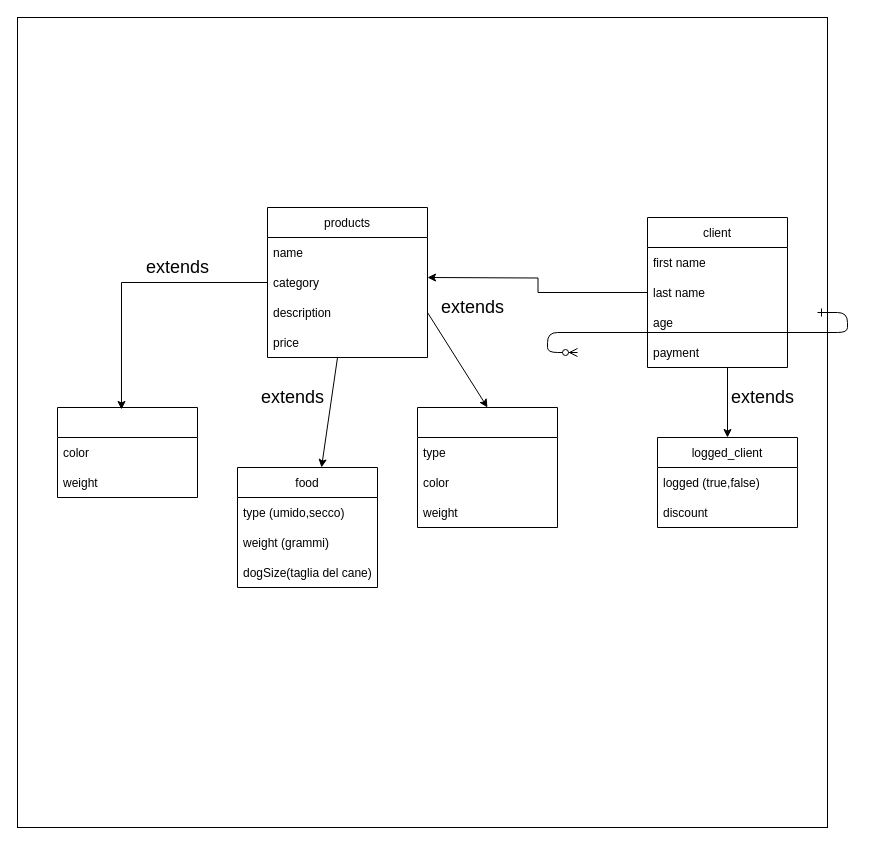
Some shapes in this 874 by 845 pixel diagram are drawn without their labels. The shapes that lost their labels are listed below. From the top down, each one's box as (x1, y1, x2, y2) in pixels, then its label:
(56, 406, 198, 498): games
(416, 406, 558, 528): accessories
